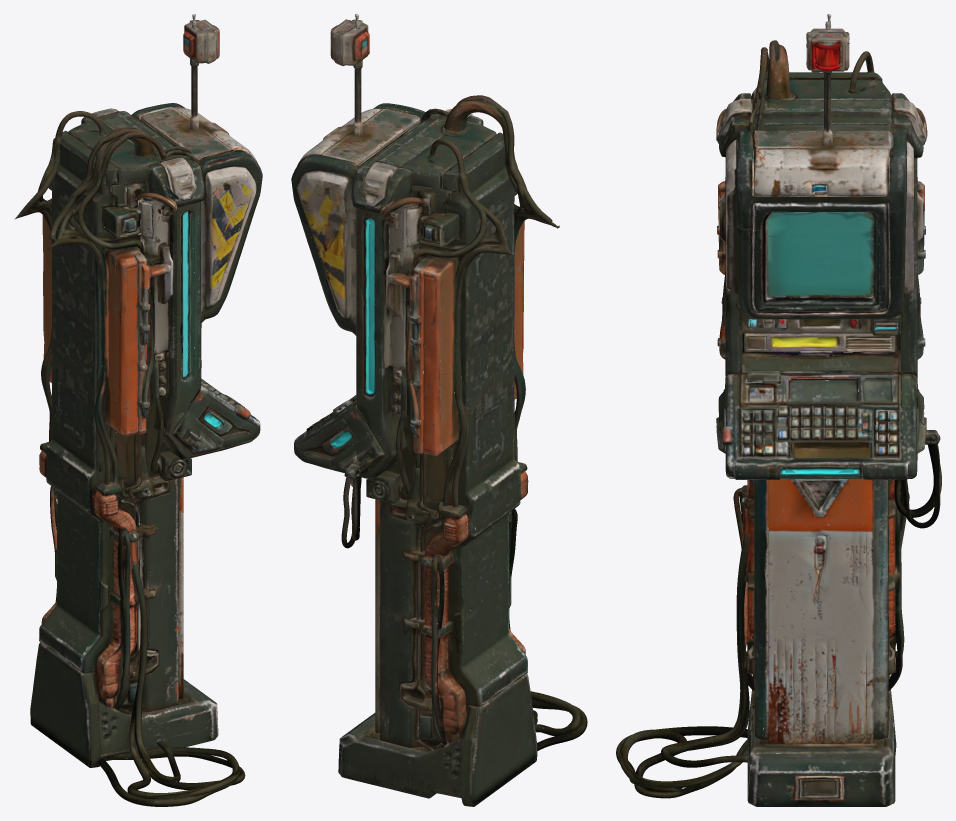
File: terminal_tall.glb
3 views of the same model, side by side, from view 1: azimuth 30°, elevation 25°; view 2: azimuth 150°, elevation 25°; view 3: azimuth 270°, elevation 25° (orthographic). The views are drawn at different scales.
Parts seen in each view (by area): view 1: tripo_node_c4cd782a-cd40-4b9b-b5dd-9df5780a28b7; view 2: tripo_node_c4cd782a-cd40-4b9b-b5dd-9df5780a28b7; view 3: tripo_node_c4cd782a-cd40-4b9b-b5dd-9df5780a28b7.
Boxes of the visible parts, left/top/right/bottom form: tripo_node_c4cd782a-cd40-4b9b-b5dd-9df5780a28b7: left=14, top=14, right=262, bottom=806; tripo_node_c4cd782a-cd40-4b9b-b5dd-9df5780a28b7: left=291, top=14, right=587, bottom=806; tripo_node_c4cd782a-cd40-4b9b-b5dd-9df5780a28b7: left=616, top=14, right=941, bottom=806.
Bounding box in the file's own units: 0.2979 × 0.9781 × 0.3607.
1 material, 1 textured.
